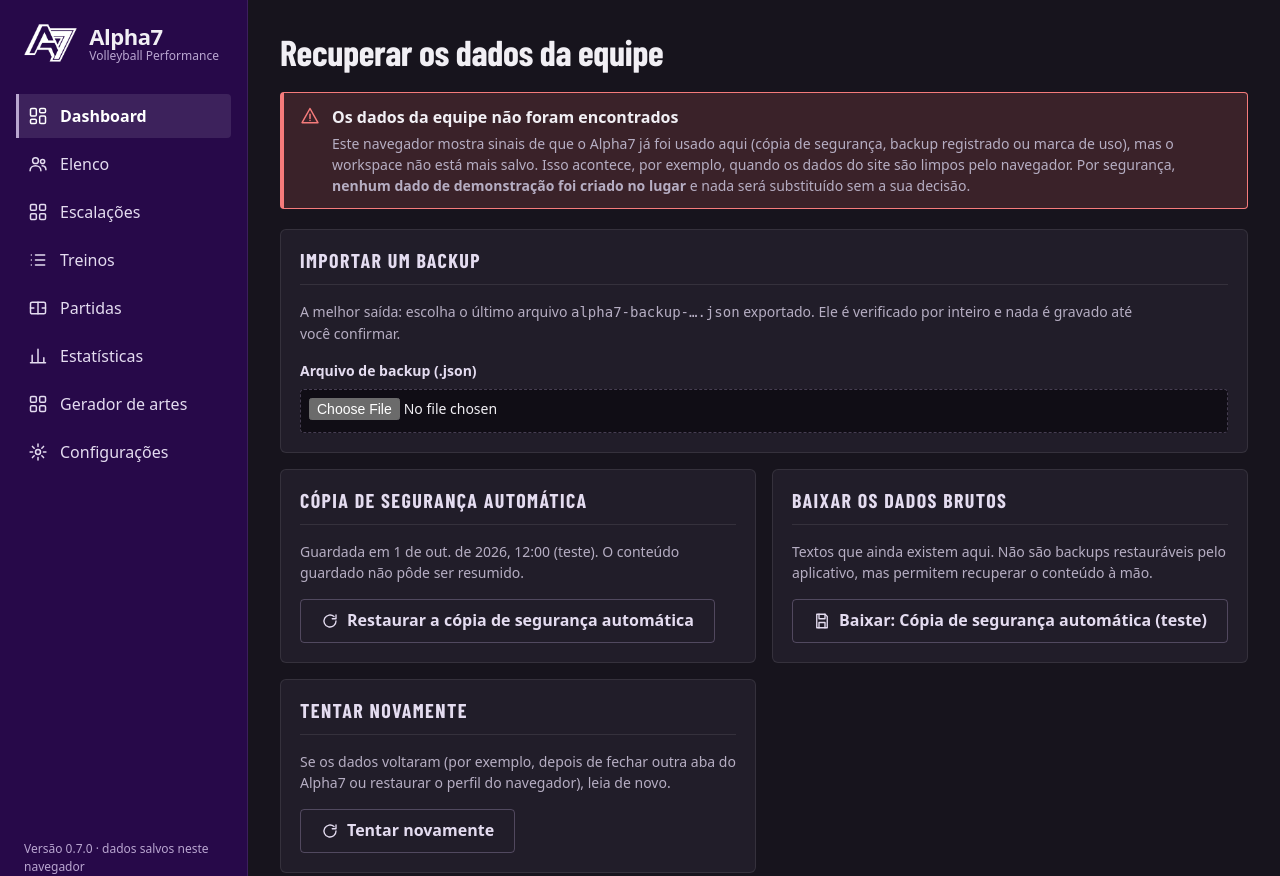
Test: Workspace ausente com sinais de uso anterior › com cópia de segurança automática › cópia ilegível não é restaurada e nada muda
Click the button "Restaurar a cópia de segurança automática": (508, 621) [300,599,715,643]
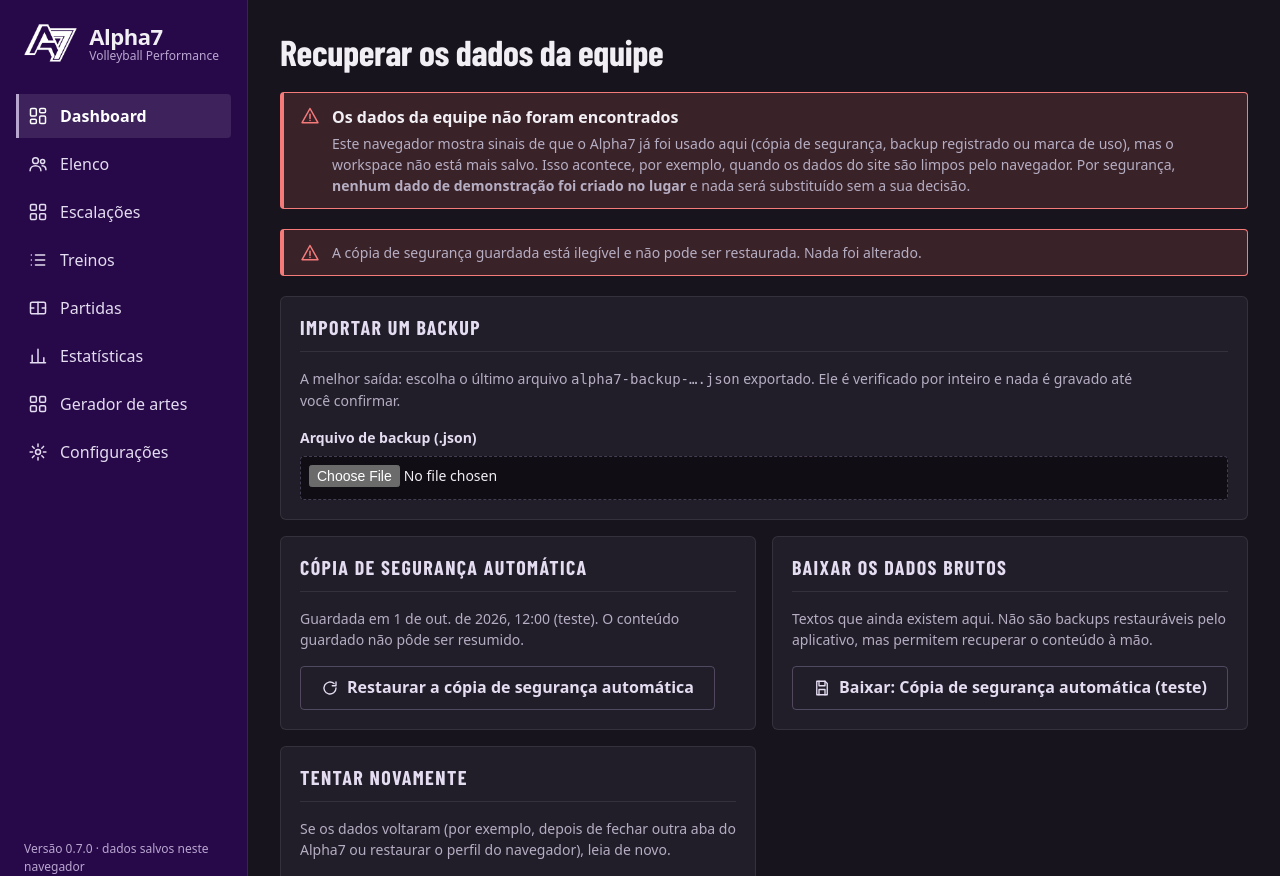
Expected: the text "Nada foi alterado" is shown, [332,243,922,262]
